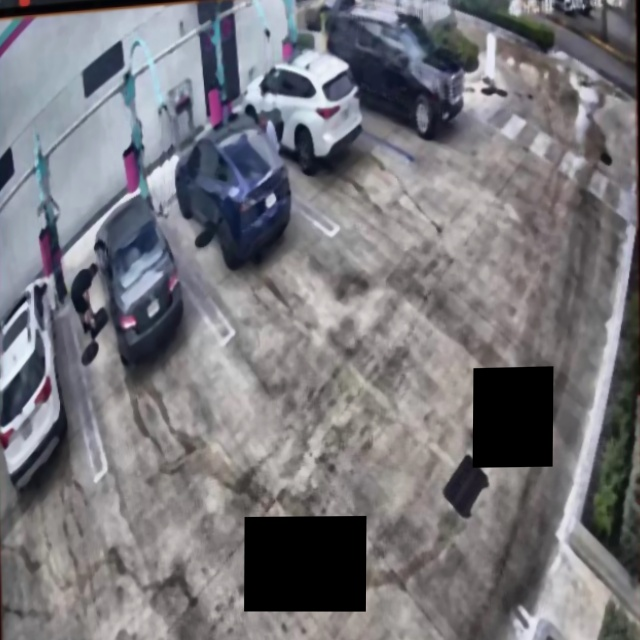Car: (175, 106, 292, 268), (242, 41, 360, 176), (92, 195, 182, 367)
